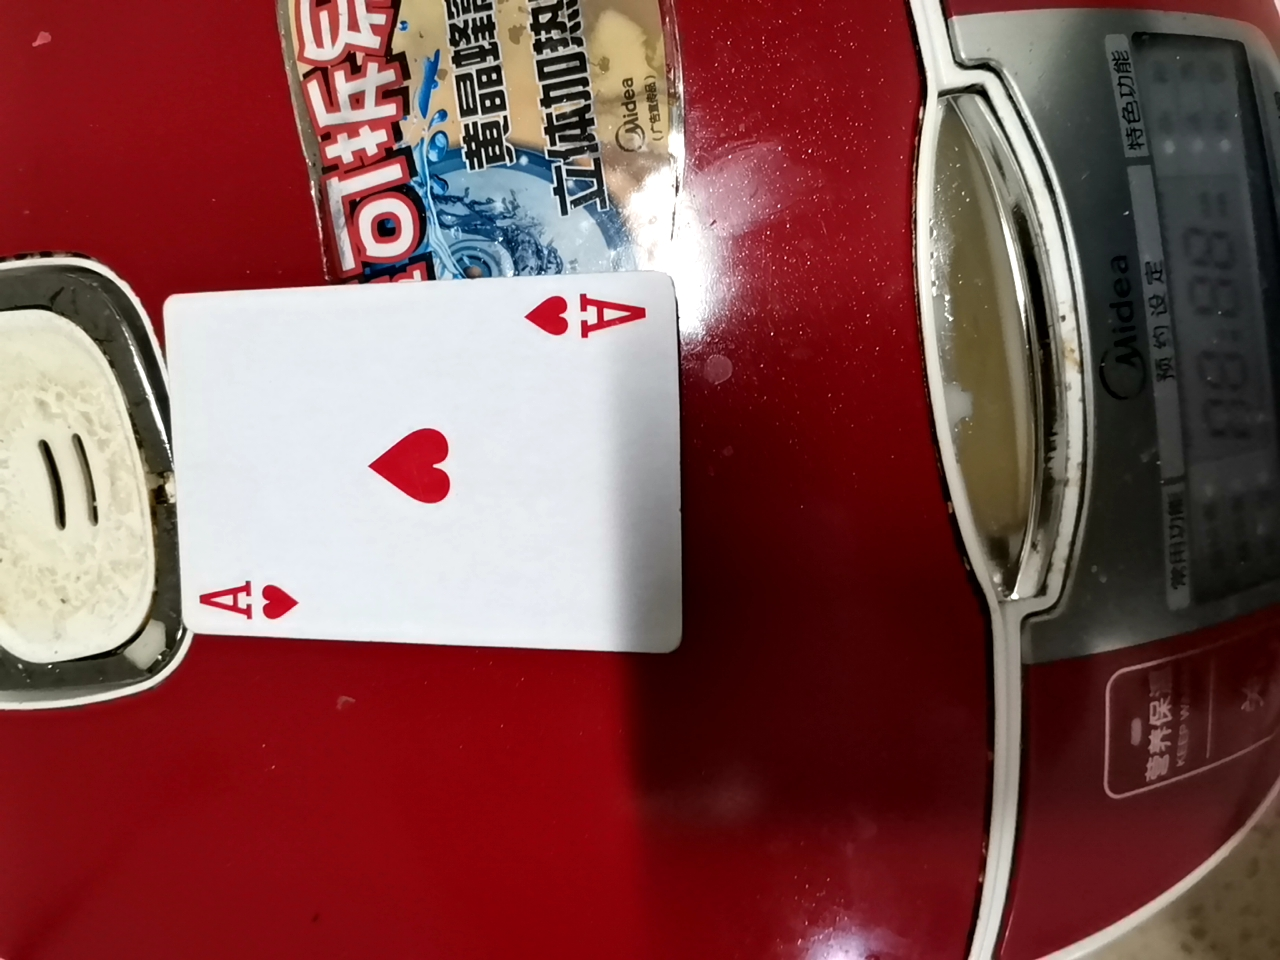hx a: (146, 234, 700, 650)
